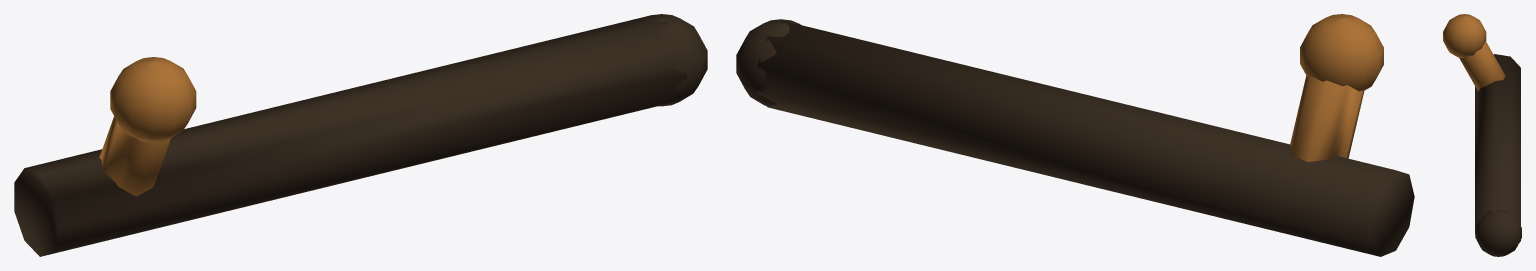
Rendered from snowbound_sliding_bolt.obj.
The picture shows the model from 3 angles, left to right: view 1: azimuth 30°, elevation 25°; view 2: azimuth 150°, elevation 25°; view 3: azimuth 270°, elevation 25°; orthographic projection. The views are drawn at different scales.
Visible parts, largest first — view 1: snowbound_sliding_bolt; view 2: snowbound_sliding_bolt; view 3: snowbound_sliding_bolt.
Boxes of the visible parts, x1,y1,x2,y2 form: snowbound_sliding_bolt: (14, 14, 707, 256); snowbound_sliding_bolt: (736, 14, 1414, 256); snowbound_sliding_bolt: (1443, 14, 1521, 256).
Size of the model in its own units: 0.4663 by 0.132 by 0.0927.
